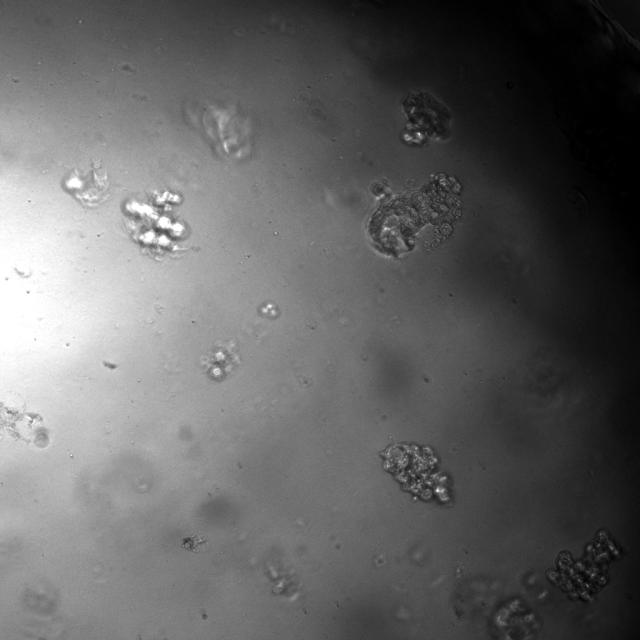organoid: (366, 171, 464, 260), (547, 529, 622, 602), (121, 188, 190, 261), (379, 441, 451, 504), (402, 91, 452, 145)
